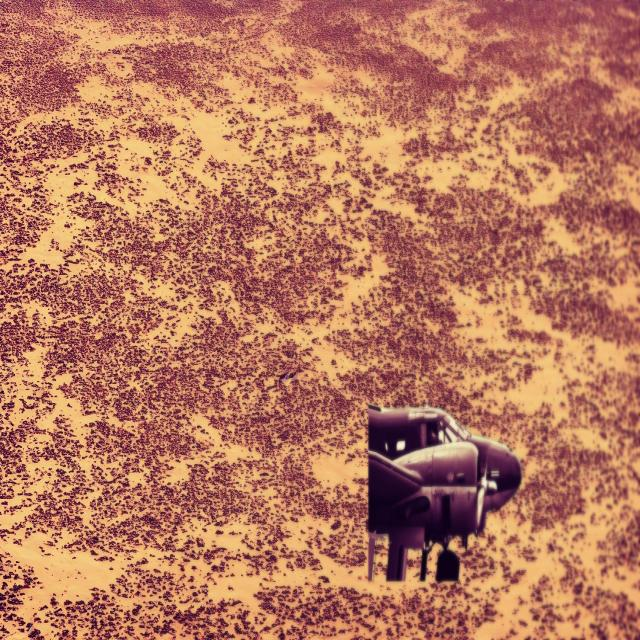airplane: (365, 402, 522, 582)
